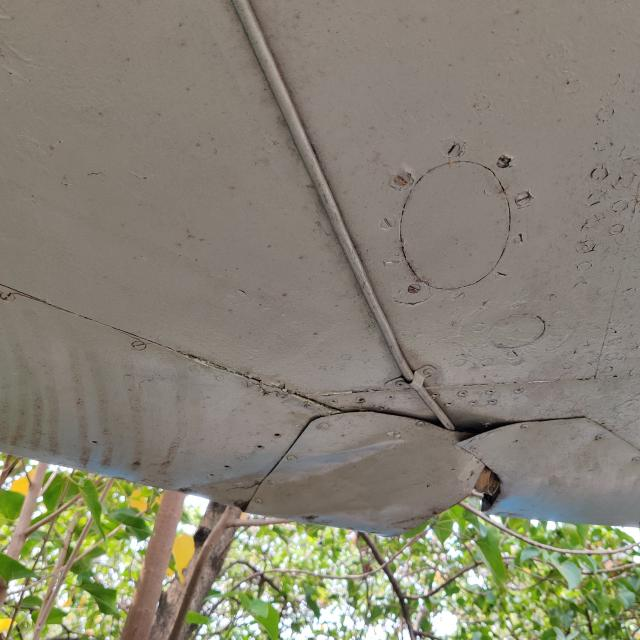dent: (162, 424, 431, 552)
